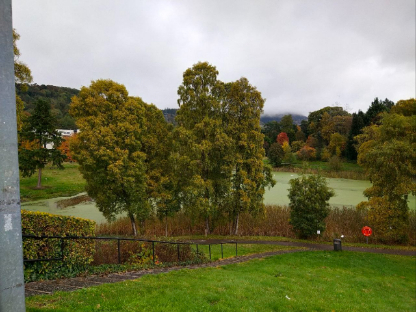tree: (66, 73, 164, 239), (173, 52, 224, 243), (220, 70, 278, 229), (362, 97, 416, 249), (281, 166, 335, 238), (23, 98, 64, 191)
